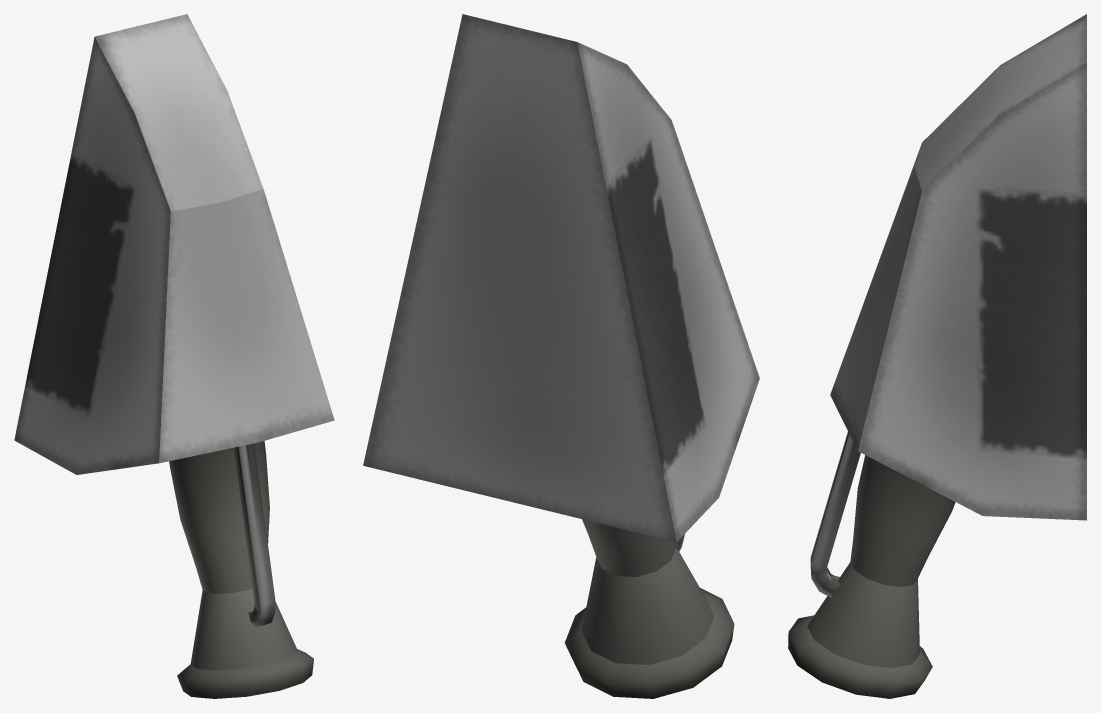
The model's file is AtlasVernier.dae.
The picture shows the model from 3 angles, left to right: view 1: azimuth 30°, elevation 25°; view 2: azimuth 150°, elevation 25°; view 3: azimuth 270°, elevation 25°; orthographic projection. The views are drawn at different scales.
Parts seen in each view (by area): view 1: Vernier, thrustTransform, PipeThingy; view 2: Vernier, thrustTransform; view 3: Vernier, thrustTransform, PipeThingy.
Boxes of the visible parts, bbox=[...] form: Vernier: bbox=[14, 14, 334, 474]; thrustTransform: bbox=[169, 441, 313, 698]; PipeThingy: bbox=[234, 443, 275, 627]; Vernier: bbox=[363, 14, 759, 542]; thrustTransform: bbox=[564, 519, 734, 698]; Vernier: bbox=[830, 14, 1086, 520]; thrustTransform: bbox=[788, 455, 955, 698]; PipeThingy: bbox=[810, 432, 860, 597].
Size of the model in its own units: 0.3975 by 0.8922 by 0.3757.
